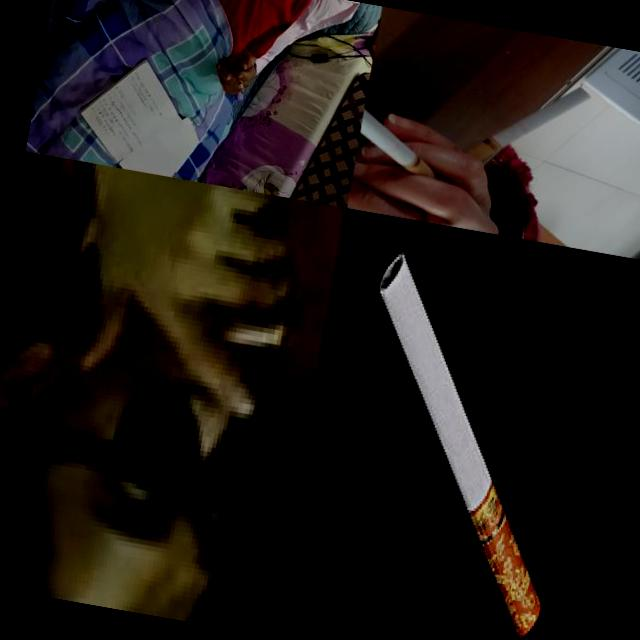smoke: (322, 246, 600, 638), (456, 67, 594, 187), (353, 95, 450, 186), (210, 314, 286, 356), (231, 70, 247, 94)
